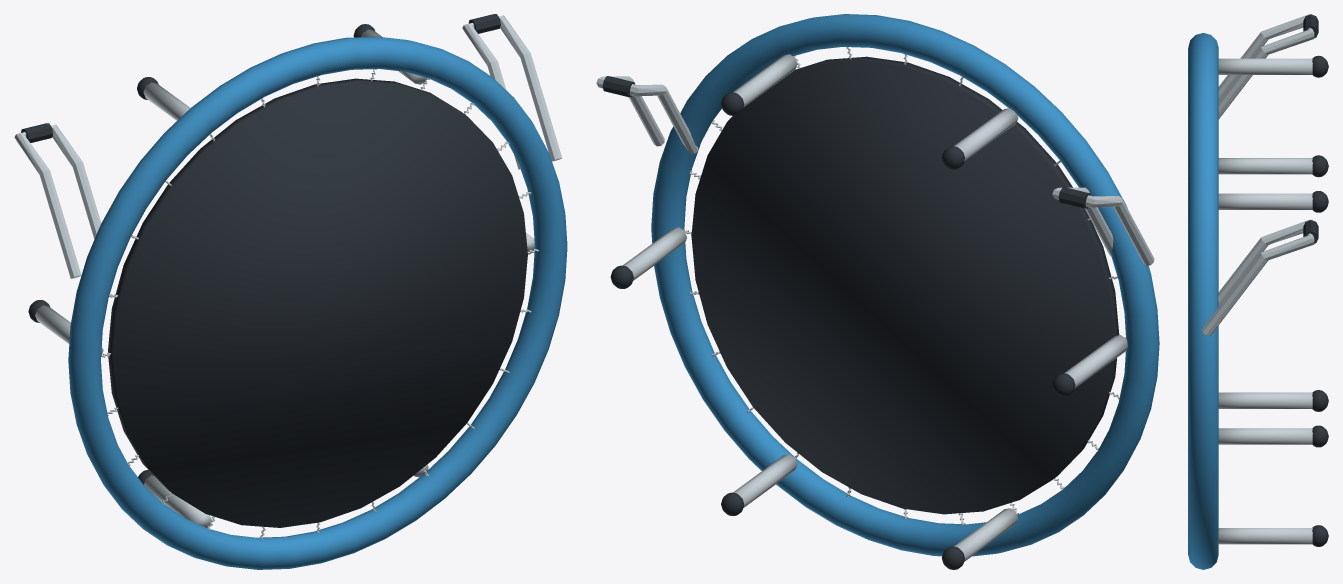
File: MiniTrampoline.fbx
3 views of the same model, side by side, from view 1: azimuth 30°, elevation 25°; view 2: azimuth 150°, elevation 25°; view 3: azimuth 270°, elevation 25° (orthographic). The views are drawn at different scales.
Parts seen in each view (by area): view 1: MiniTrampoline_Mesh; view 2: MiniTrampoline_Mesh; view 3: MiniTrampoline_Mesh.
Part boxes in pixels (x1=…): MiniTrampoline_Mesh: x1=14, y1=14, x2=567, y2=569; MiniTrampoline_Mesh: x1=596, y1=14, x2=1159, y2=569; MiniTrampoline_Mesh: x1=1188, y1=14, x2=1328, y2=569.
Size of the model in its own units: 1.05 by 1.05 by 0.275.
